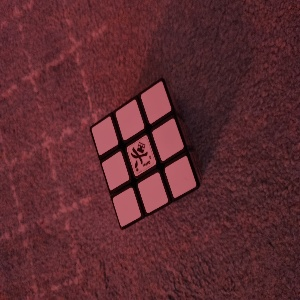cube: (90, 78, 202, 231)
